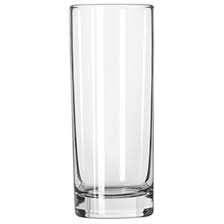glass: (65, 1, 161, 222)
